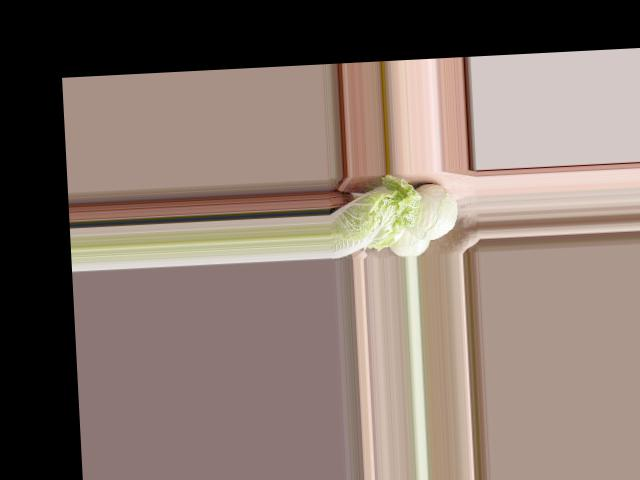lettuce: (328, 172, 423, 255)
